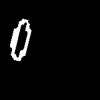chain: (10, 19, 30, 60)
